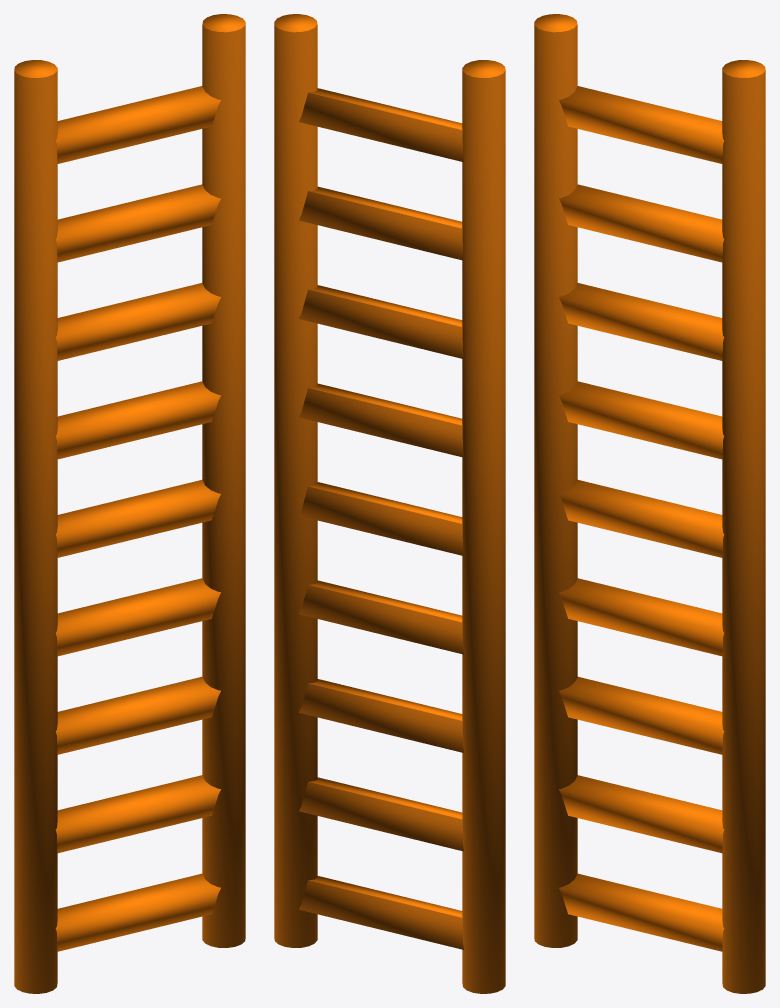
Rendered from Ladder.fbx.
The picture shows the model from 3 angles, left to right: view 1: azimuth 30°, elevation 25°; view 2: azimuth 150°, elevation 25°; view 3: azimuth 330°, elevation 25°; orthographic projection.
Parts seen in each view (by area): view 1: Ladder; view 2: Ladder; view 3: Ladder.
Boxes of the visible parts, box(x1,y1,x2,y2) form: Ladder: box(14, 14, 245, 993); Ladder: box(274, 14, 505, 993); Ladder: box(534, 14, 765, 993).
Size of the model in its own units: 1.8 by 0.3007 by 6.98.
